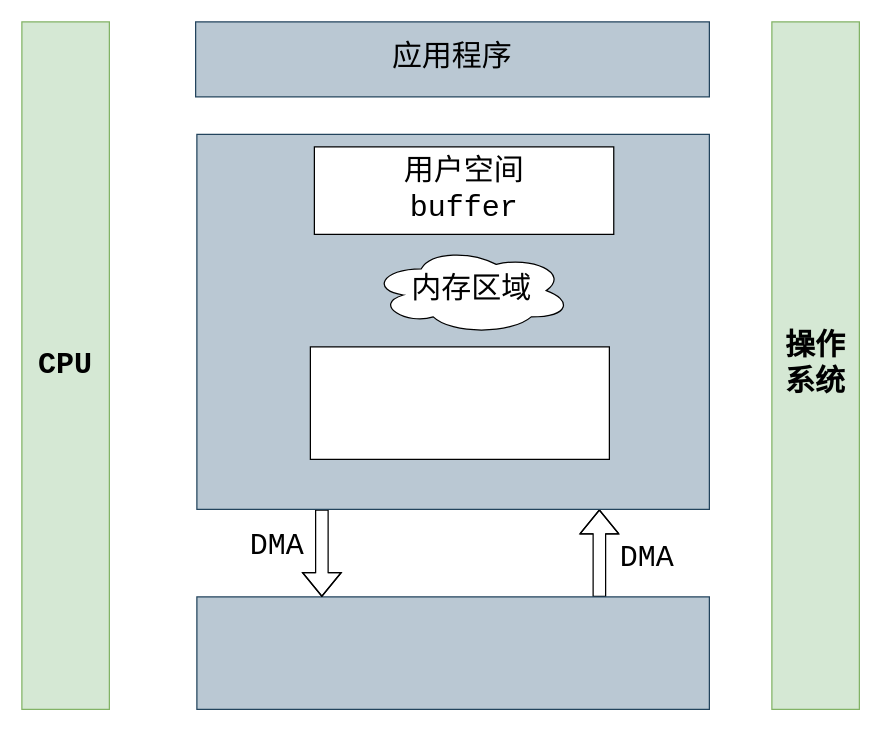
This 881x731 diagram has some shape labels left out. Here are the shapes that lost their labels. From the top down, the centre of each, then its label:
At point (459, 402): "内核空间 buffer".
At point (452, 652): "硬盘".
